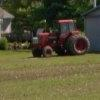Tractor: (27, 17, 93, 63)
